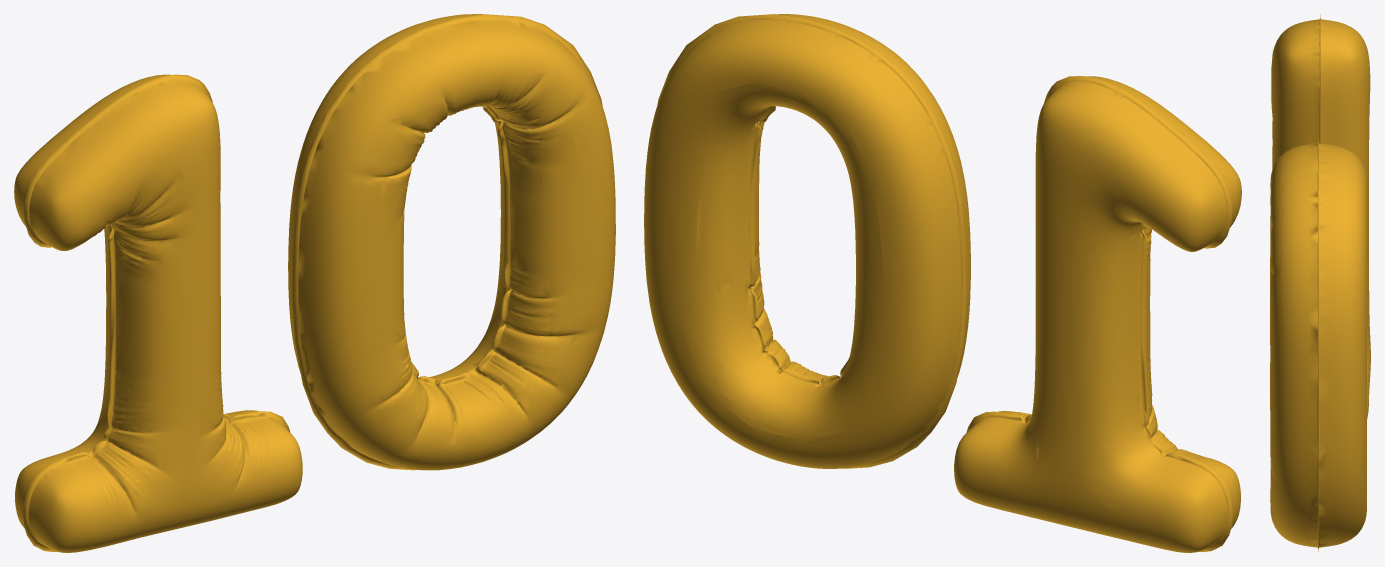
Rendered from zahlen-gold-10.glb.
The picture shows the model from 3 angles, left to right: view 1: azimuth 30°, elevation 25°; view 2: azimuth 150°, elevation 25°; view 3: azimuth 270°, elevation 25°; orthographic projection. The views are drawn at different scales.
Parts seen in each view (by area): view 1: 0, 1.001; view 2: 0, 1.001; view 3: 0, 1.001.
Part boxes in pixels (<box>): 0: <box>288,14,615,470</box>; 1.001: <box>14,74,302,552</box>; 0: <box>644,14,970,468</box>; 1.001: <box>954,76,1241,552</box>; 0: <box>1270,138,1366,552</box>; 1.001: <box>1271,14,1370,418</box>.
Size of the model in its own units: 0.8466 by 0.631 by 0.1472.
